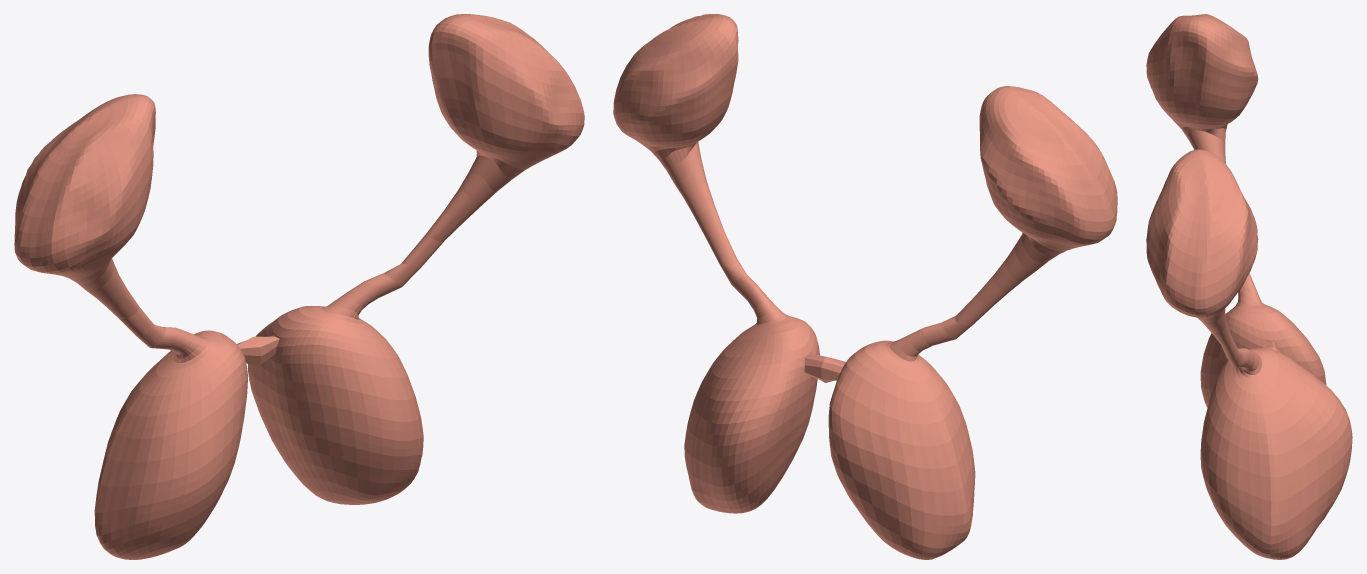
Rendered from pulmon astralis1.fbx.
3 renders of one model, left to right at view 1: azimuth 30°, elevation 25°; view 2: azimuth 150°, elevation 25°; view 3: azimuth 270°, elevation 25°, orthographic. The views are drawn at different scales.
Visible parts, largest first — view 1: Sphere; view 2: Sphere; view 3: Sphere.
Boxes of the visible parts, <box> form: Sphere: <box>14,14,584,559</box>; Sphere: <box>613,14,1117,559</box>; Sphere: <box>1146,14,1352,559</box>.
Size of the model in its own units: 906 by 781 by 344.
